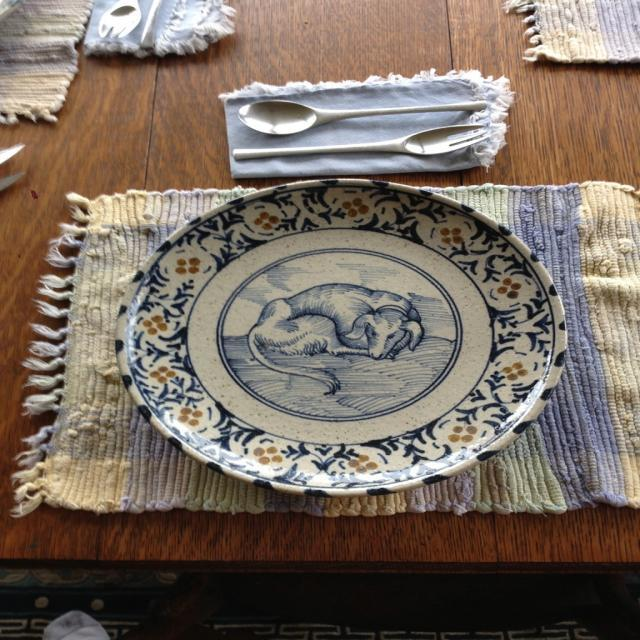ceramic plate: (108, 168, 542, 538)
